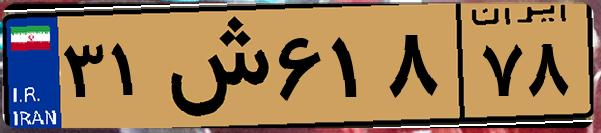1: (330, 28, 385, 110), (110, 28, 158, 98)
3: (57, 26, 110, 100)
6: (270, 28, 330, 110)
7: (475, 38, 525, 113)
8: (385, 28, 445, 110), (525, 38, 570, 115)
ش: (158, 12, 270, 120)
